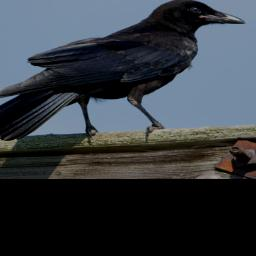Crow: (0, 0, 246, 141)
